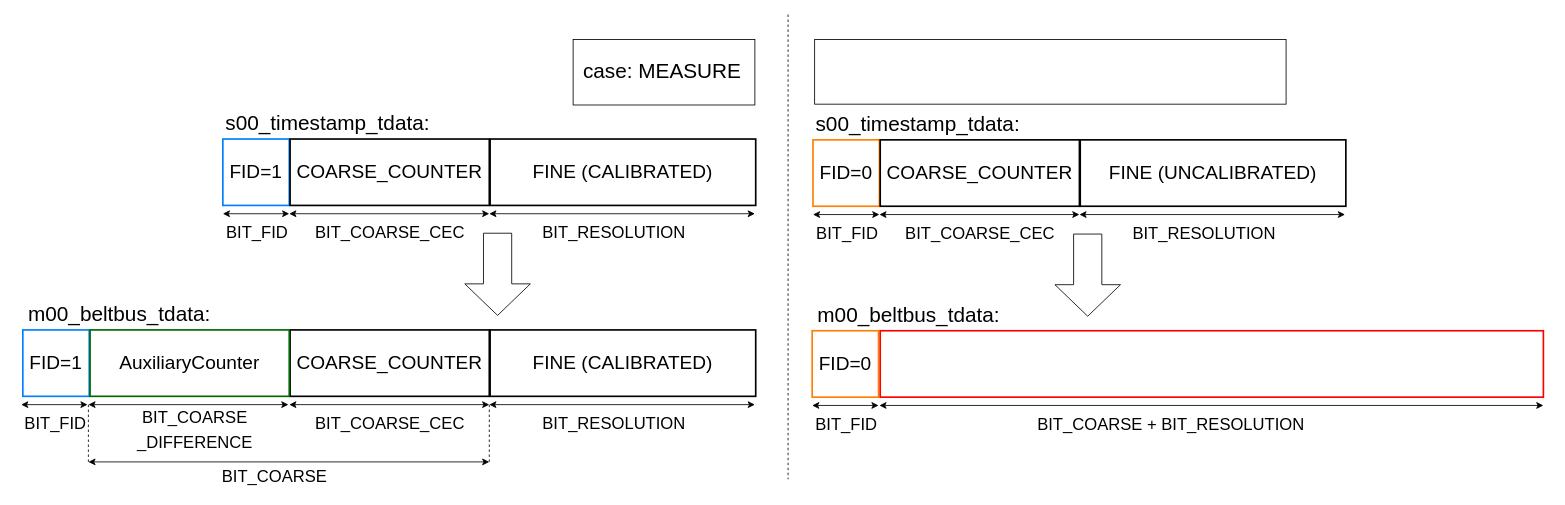
Image size: 1565x505. Some labels were removed from this diagram. The centre of each missing label's shape, as x and y in pixels:
"case: OVERFLOW and AuxiliaryCounter = MAX, MAX=(2 BIT_COARSE_DIFFERENCE -1)" belongs at (x=1050, y=71).
"Overflow_cnt" belongs at (x=1211, y=364).
